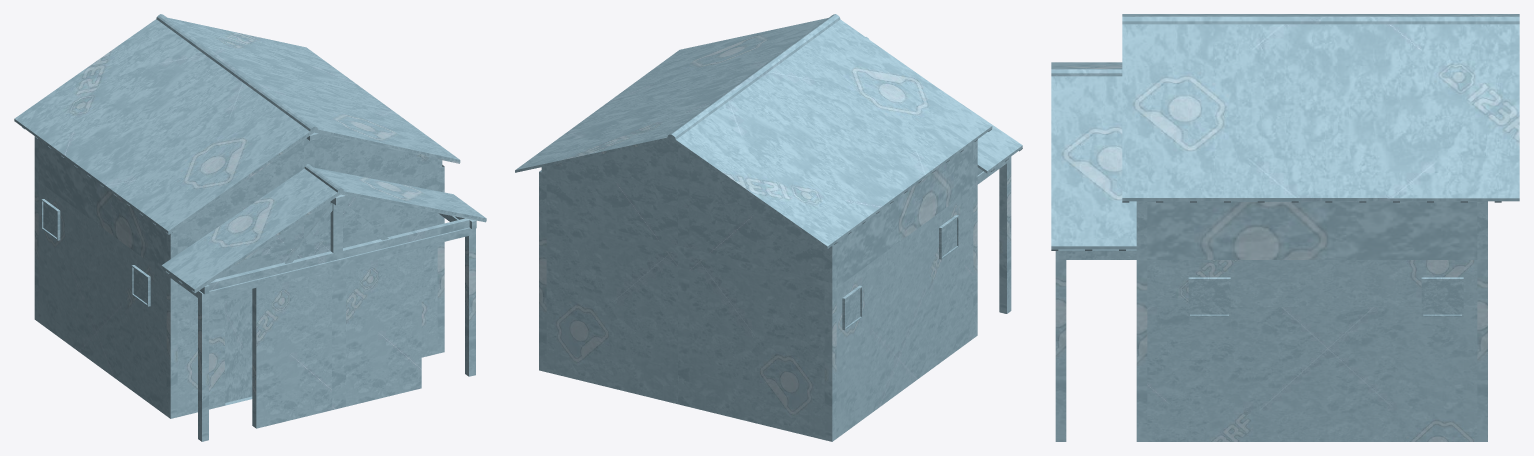
File: Banheiro.fbx
3 views of the same model, side by side, from view 1: azimuth 30°, elevation 25°; view 2: azimuth 150°, elevation 25°; view 3: azimuth 270°, elevation 25° (orthographic). The views are drawn at different scales.
Visible parts, largest first — view 1: Plane; view 2: Plane; view 3: Plane.
Boxes of the visible parts, x1,y1,x2,y2 form: Plane: (14,14,486,441); Plane: (515,14,1022,441); Plane: (1051,14,1519,441).
Bounding box in the file's own units: 620 × 531 × 664.
